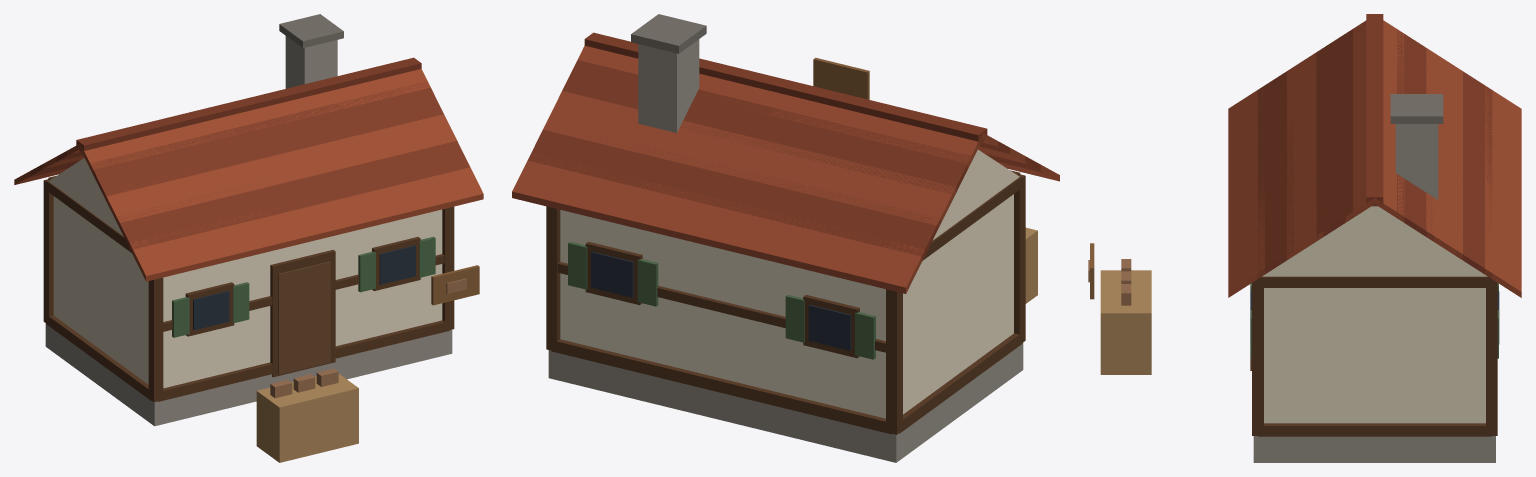
The model's file is cobbler.glb.
The picture shows the model from 3 angles, left to right: view 1: azimuth 30°, elevation 25°; view 2: azimuth 150°, elevation 25°; view 3: azimuth 270°, elevation 25°; orthographic projection. The views are drawn at different scales.
Visible parts, largest first — view 1: cobbler; view 2: cobbler; view 3: cobbler.
Part boxes in pixels (x1,y1,x2,y2): cobbler: (14,14,483,462); cobbler: (512,14,1059,462); cobbler: (1088,14,1521,462).
Bounding box in the file's own units: 5.1 × 4.17 × 5.1.
